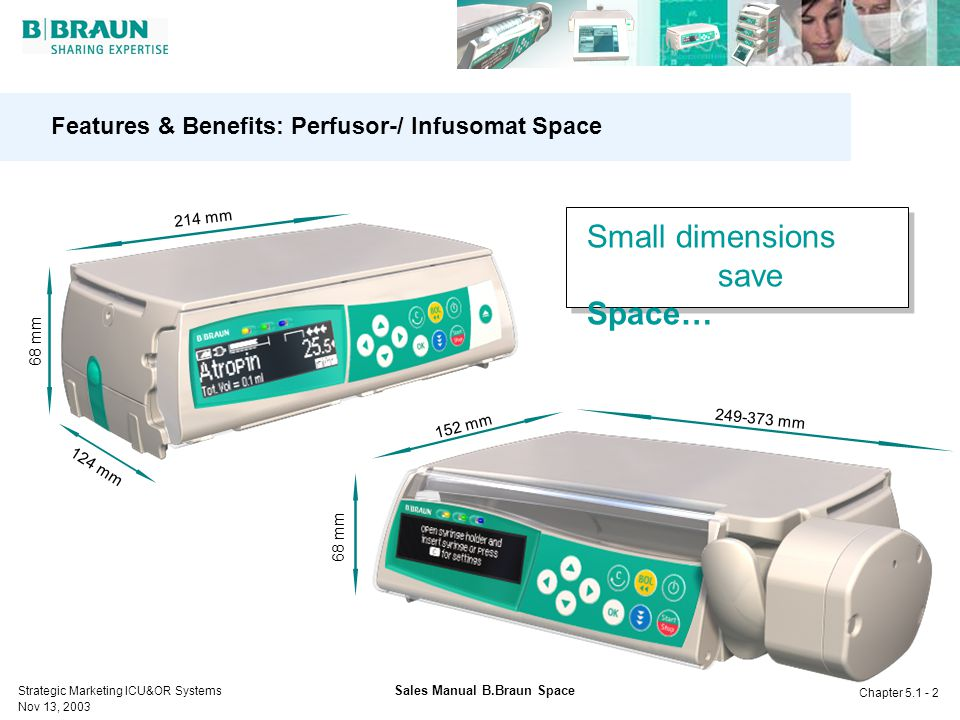BBraun Infusomat Space: (56, 223, 526, 463)
